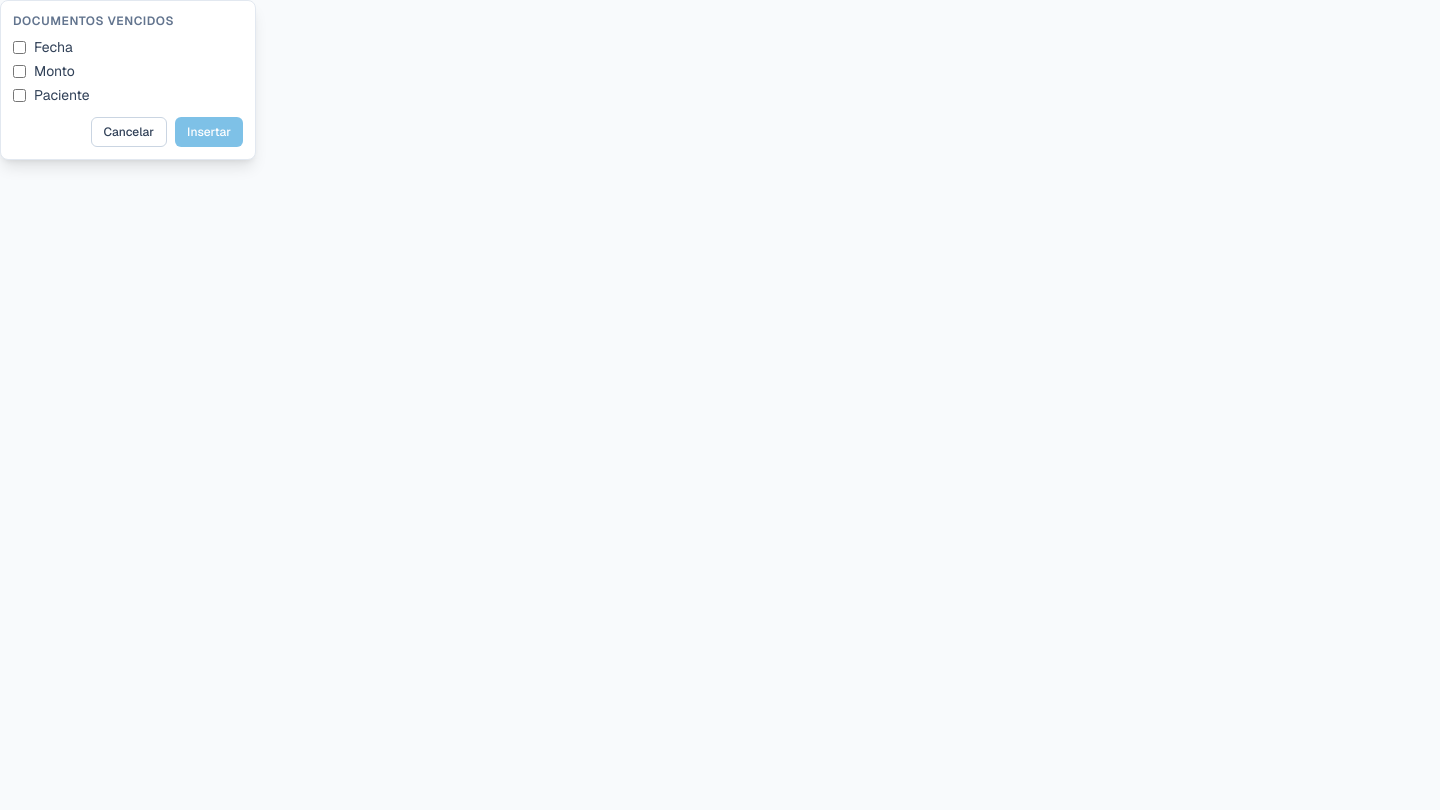
Scenario: ColumnPicker › insert with selected columns (spec: Insert table token with selected columns) › enables the confirm button once a column is selected
The image size is (1440, 810).
Click the checkbox labelled "Fecha". click: (20, 47)
box: [13,40,26,54]
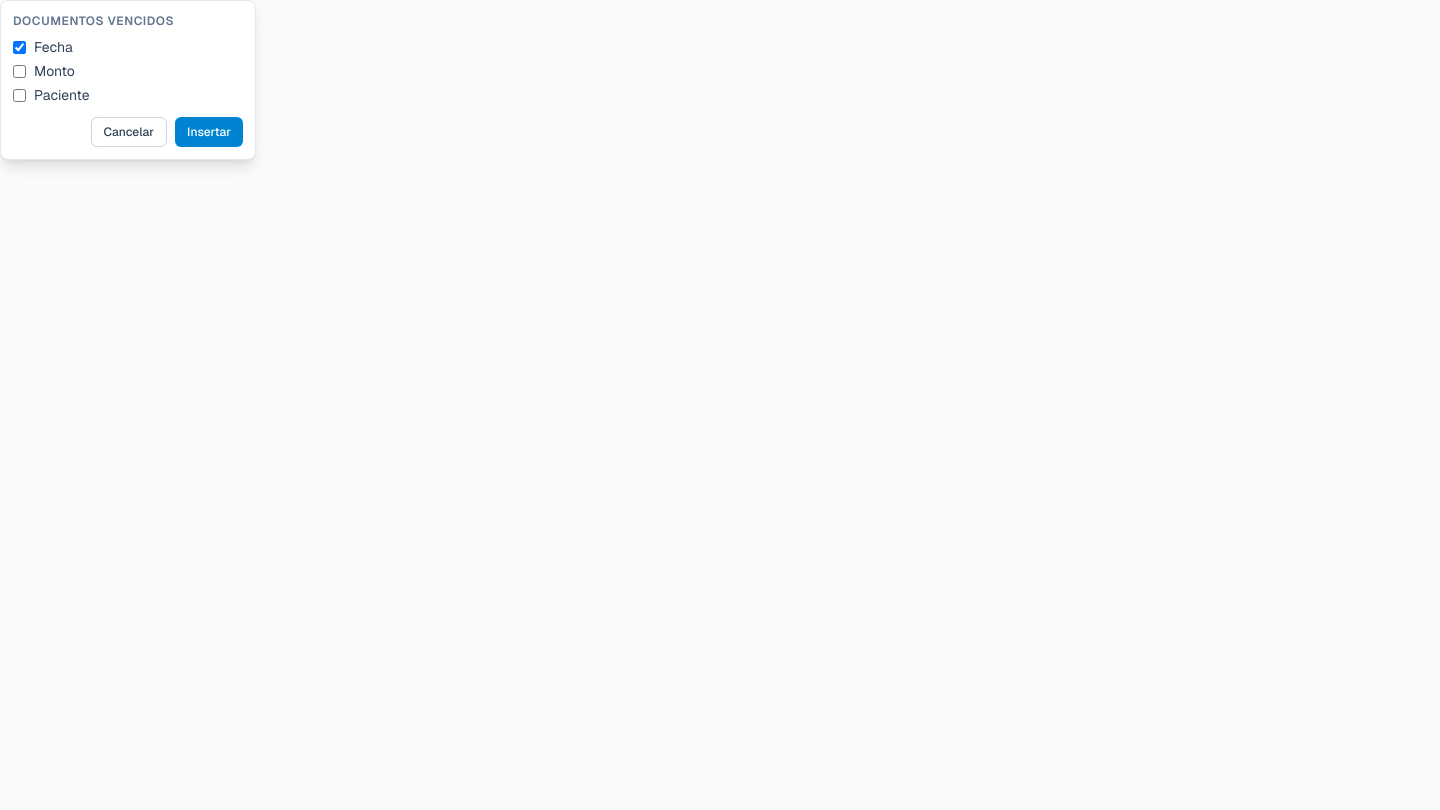
Now the button "Insertar" is enabled, box [175,117,243,147]
